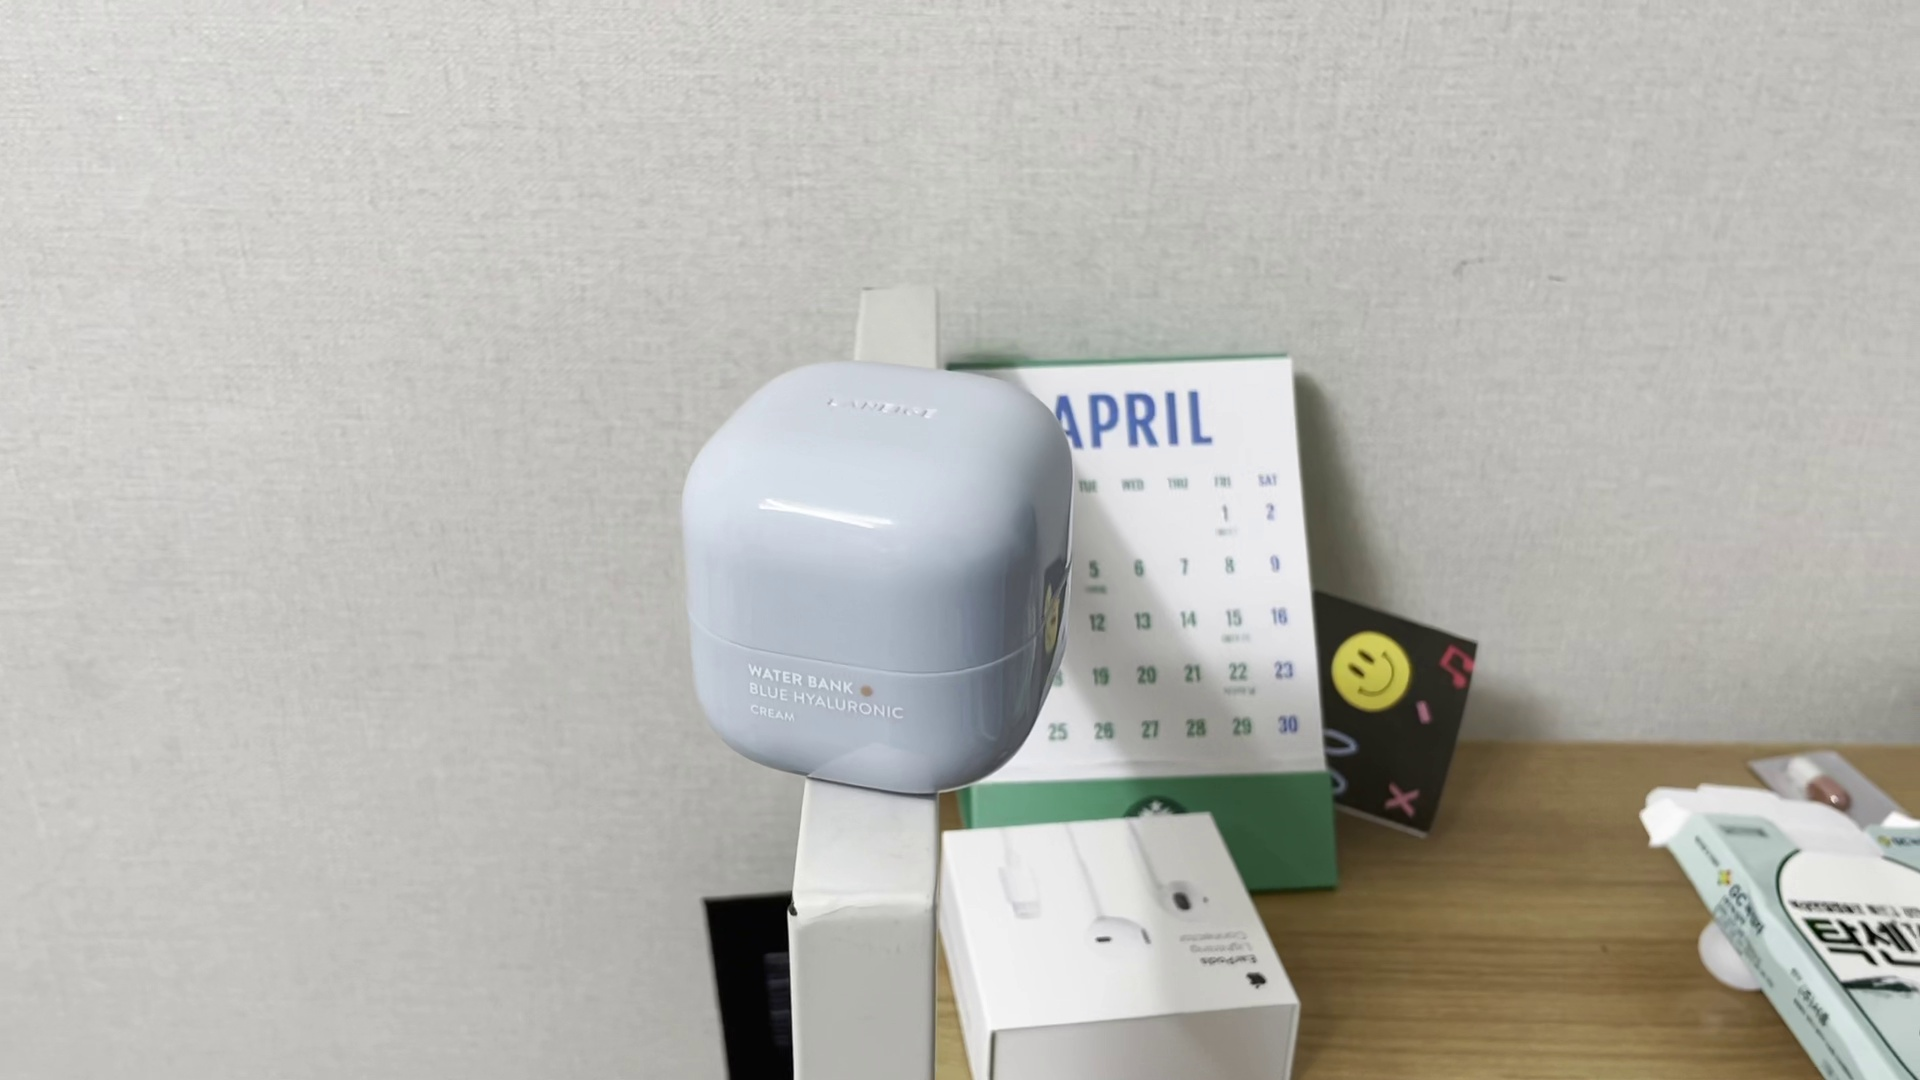cream: (686, 363, 1080, 794)
